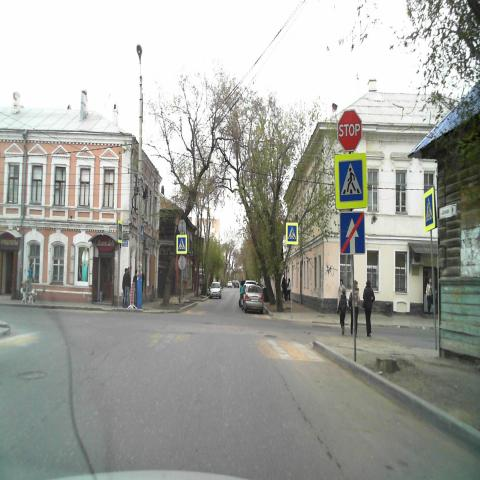5_6: (341, 210, 366, 255)
